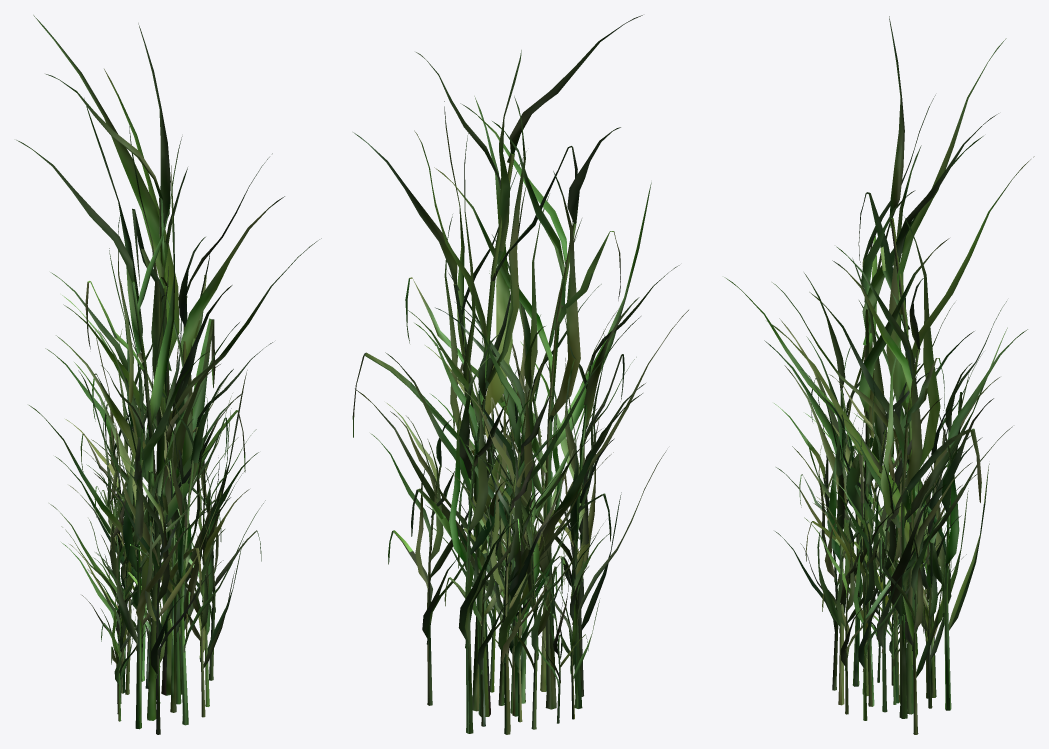
The model's file is grass-1.glb.
The picture shows the model from 3 angles, left to right: view 1: azimuth 30°, elevation 25°; view 2: azimuth 150°, elevation 25°; view 3: azimuth 270°, elevation 25°; orthographic projection. The views are drawn at different scales.
Visible parts, largest first — view 1: foli_komish_Material #27_0, trunks_komish_Material #26_0; view 2: foli_komish_Material #27_0, trunks_komish_Material #26_0; view 3: foli_komish_Material #27_0, trunks_komish_Material #26_0.
Boxes of the visible parts, <box> form: foli_komish_Material #27_0: <box>16,15,321,687</box>; trunks_komish_Material #26_0: <box>109,198,215,734</box>; foli_komish_Material #27_0: <box>352,15,688,686</box>; trunks_komish_Material #26_0: <box>427,153,592,734</box>; foli_komish_Material #27_0: <box>724,16,1034,677</box>; trunks_komish_Material #26_0: <box>823,218,951,734</box>.
Bounding box in the file's own units: 3.47 × 8.55 × 3.81.
2 materials, 2 textured.
